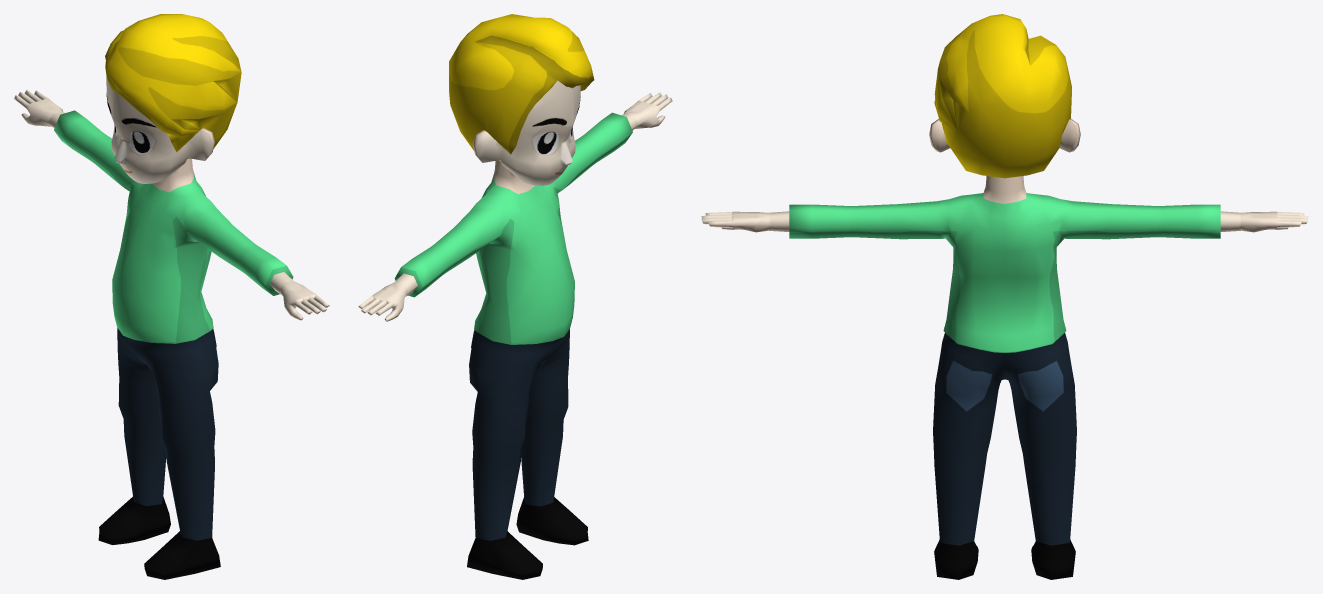
The model's file is boy_5.fbx.
The picture shows the model from 3 angles, left to right: view 1: azimuth 30°, elevation 25°; view 2: azimuth 150°, elevation 25°; view 3: azimuth 270°, elevation 25°; orthographic projection. The views are drawn at different scales.
Parts seen in each view (by area): view 1: boy5; view 2: boy5; view 3: boy5.
Part boxes in pixels (bbox=[...]): boy5: bbox=[14, 14, 329, 579]; boy5: bbox=[358, 14, 672, 579]; boy5: bbox=[701, 14, 1308, 579].
Bounding box in the file's own units: 36.02 × 147 × 150.
Materials: 1 (1 with a texture image).
